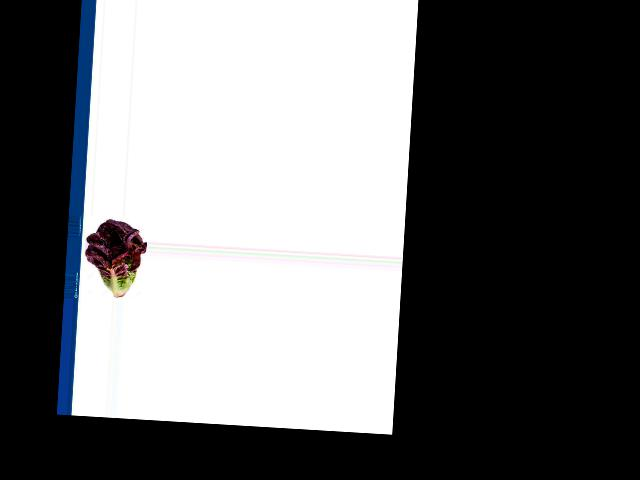lettuce: (82, 219, 146, 299)
